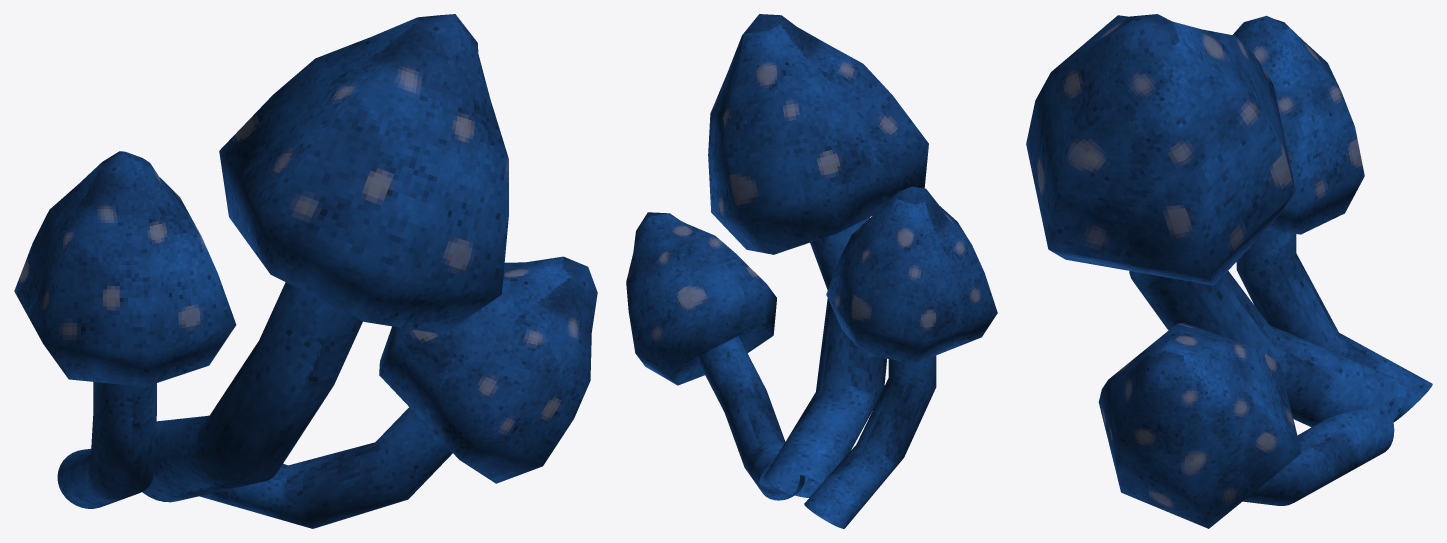
File: mushroomSTACK.fbx
3 renders of one model, left to right at view 1: azimuth 30°, elevation 25°; view 2: azimuth 150°, elevation 25°; view 3: azimuth 270°, elevation 25°, orthographic. The views are drawn at different scales.
Visible parts, largest first — view 1: Elbow Joint.002; view 2: Elbow Joint.002; view 3: Elbow Joint.002.
Boxes of the visible parts, x1=… form: Elbow Joint.002: x1=14, y1=14, x2=597, y2=528; Elbow Joint.002: x1=626, y1=14, x2=997, y2=528; Elbow Joint.002: x1=1026, y1=14, x2=1432, y2=528.
Bounding box in the file's own units: 549 × 555 × 400.
Materials: 1 (1 with a texture image).
